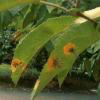Apple rust leaf: (9, 8, 99, 100)
